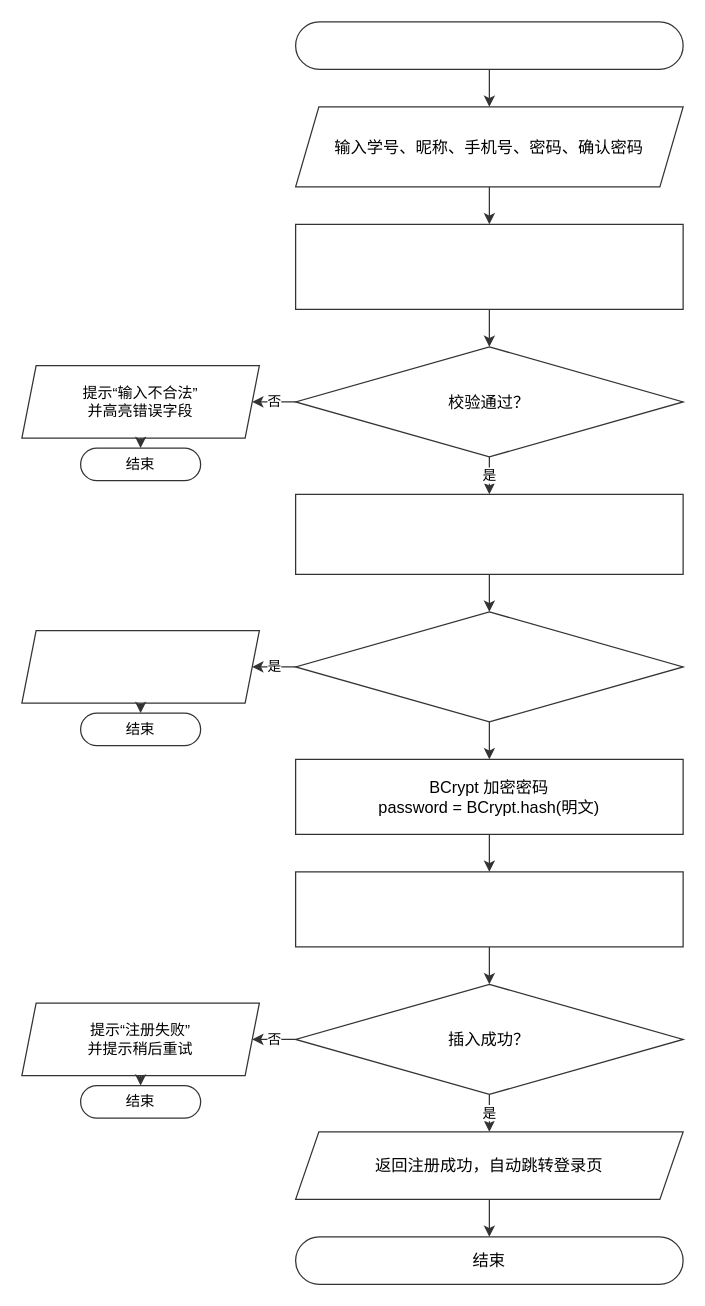
The diagram is 705 pixels wide and 1306 high, and some of its shapes have lost their labels. The shapes that lost their labels are listed below. From the top down, each one's box as (x1, y1, x2, y2) in pixels, then its label:
(294, 21, 683, 69): 开始
(294, 223, 683, 309): 前端校验：学号 6~12 位数字、密码不少于 6 位 两次密码一致、手机 11 位
(294, 493, 683, 574): 查询学号是否已注册 selectByStudentNo(studentNo)
(21, 629, 259, 703): 提示“该学号已注册” 并自动跳转登录
(294, 611, 683, 722): 学号已存在？
(294, 871, 683, 947): 插入用户记录 role = 0（学生）、status = 0（正常）
